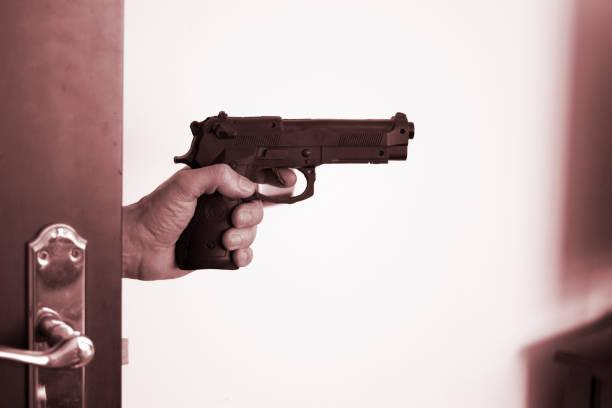weapon: (174, 109, 415, 273)
